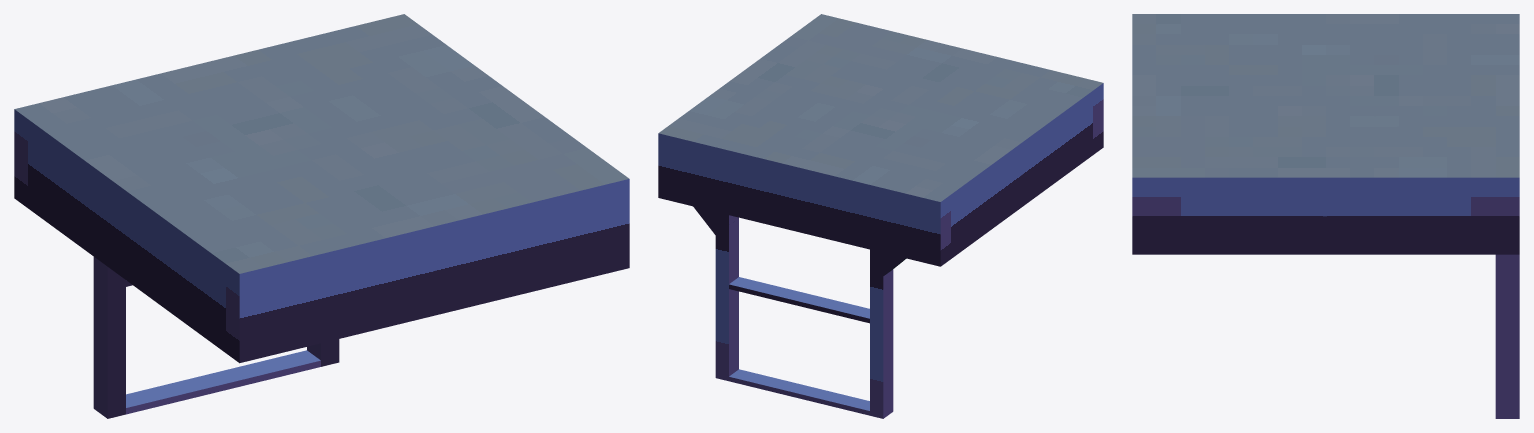
File: m1_floor_ladder.obj
3 renders of one model, left to right at view 1: azimuth 30°, elevation 25°; view 2: azimuth 150°, elevation 25°; view 3: azimuth 270°, elevation 25°, orthographic. The views are drawn at different scales.
Visible parts, largest first — view 1: part_77d1822c055c395e395541c92ee075d3, part_1b596cf1487b7fe9a221060280aac2ae, part_32837fab482a55529ce35b0025400793, part_ce2167a12180b78698f2187bda946923; view 2: part_77d1822c055c395e395541c92ee075d3, part_ce2167a12180b78698f2187bda946923, part_1b596cf1487b7fe9a221060280aac2ae, part_32837fab482a55529ce35b0025400793, part_3ead3654a63549a343fdc72ec93cf0e2, part_0d1730693428120fbe4c6ff54b770688, part_1962fba99f8d9e89407acfcd5f61889c; view 3: part_77d1822c055c395e395541c92ee075d3, part_ce2167a12180b78698f2187bda946923.
Boxes of the visible parts, bbox=[...] form: part_77d1822c055c395e395541c92ee075d3: bbox=[14, 14, 629, 363]; part_1b596cf1487b7fe9a221060280aac2ae: bbox=[93, 257, 125, 418]; part_32837fab482a55529ce35b0025400793: bbox=[126, 350, 320, 414]; part_ce2167a12180b78698f2187bda946923: bbox=[307, 339, 339, 366]; part_77d1822c055c395e395541c92ee075d3: bbox=[658, 14, 1103, 266]; part_ce2167a12180b78698f2187bda946923: bbox=[715, 212, 738, 381]; part_1b596cf1487b7fe9a221060280aac2ae: bbox=[870, 249, 893, 418]; part_32837fab482a55529ce35b0025400793: bbox=[729, 369, 869, 415]; part_3ead3654a63549a343fdc72ec93cf0e2: bbox=[729, 277, 869, 323]; part_0d1730693428120fbe4c6ff54b770688: bbox=[870, 242, 906, 276]; part_1962fba99f8d9e89407acfcd5f61889c: bbox=[693, 195, 725, 235]; part_77d1822c055c395e395541c92ee075d3: bbox=[1132, 14, 1519, 254]; part_ce2167a12180b78698f2187bda946923: bbox=[1495, 254, 1519, 418].
Size of the model in its own units: 1 by 0.7812 by 1.
